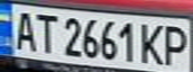1: (115, 19, 139, 63)
2: (57, 14, 84, 58)
6: (78, 16, 103, 60), (100, 17, 121, 61)
A: (9, 7, 39, 52)
K: (136, 20, 169, 65)
P: (160, 21, 193, 68)
T: (30, 10, 60, 54)
